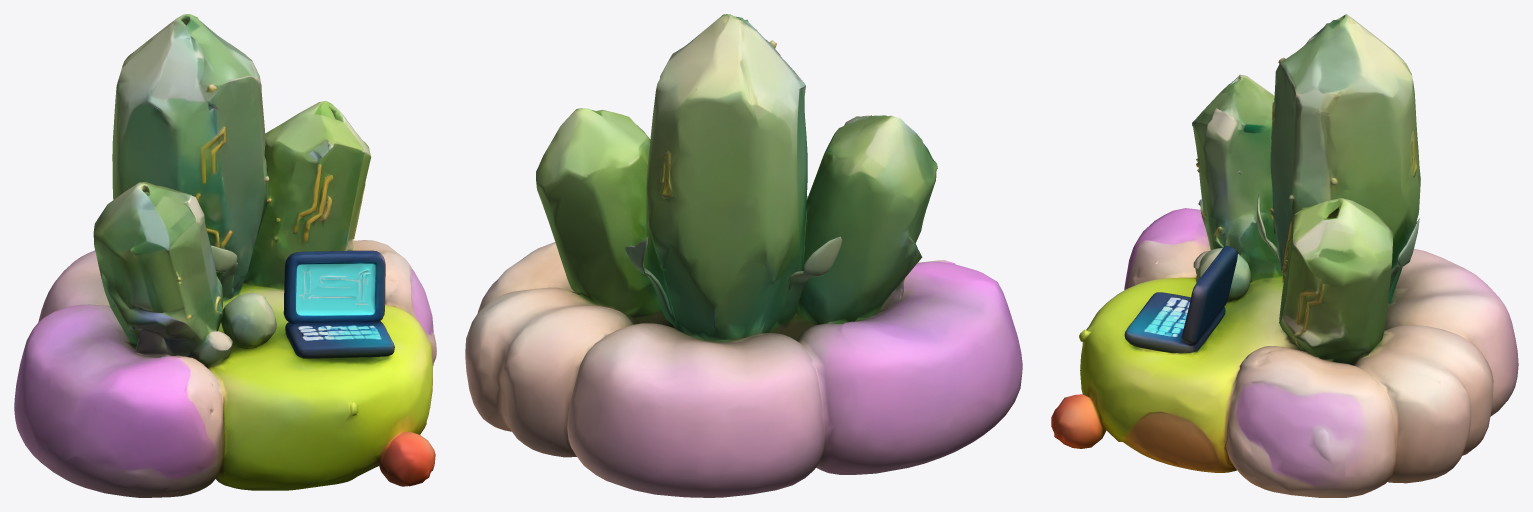
File: programmer-detail.glb
3 views of the same model, side by side, from view 1: azimuth 30°, elevation 25°; view 2: azimuth 150°, elevation 25°; view 3: azimuth 270°, elevation 25° (orthographic). The views are drawn at different scales.
Visible parts, largest first — view 1: tripo_node_a4e5318d-de01-48c6-b771-d190ea829c84; view 2: tripo_node_a4e5318d-de01-48c6-b771-d190ea829c84; view 3: tripo_node_a4e5318d-de01-48c6-b771-d190ea829c84.
Boxes of the visible parts, x1,y1,x2,y2 form: tripo_node_a4e5318d-de01-48c6-b771-d190ea829c84: [14, 14, 436, 497]; tripo_node_a4e5318d-de01-48c6-b771-d190ea829c84: [465, 14, 1022, 497]; tripo_node_a4e5318d-de01-48c6-b771-d190ea829c84: [1051, 14, 1518, 497].
Bounding box in the file's own units: 0.9808 × 0.8596 × 0.9365.
Materials: 1 (1 with a texture image).
